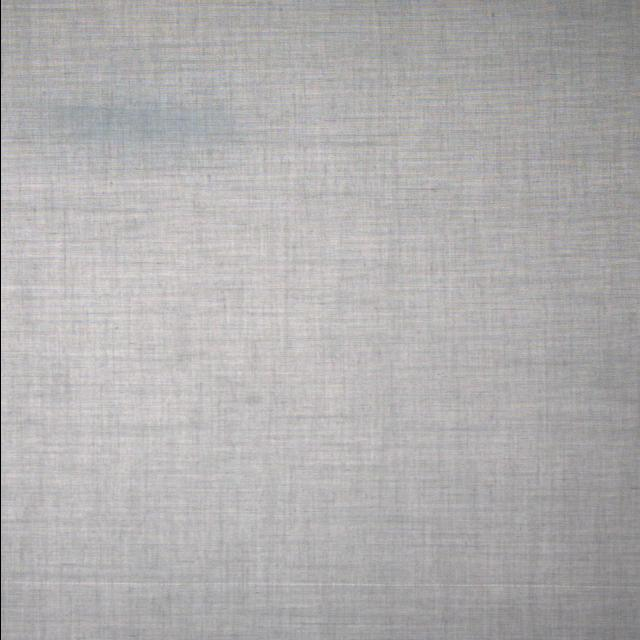dirty: (58, 106, 231, 144)
